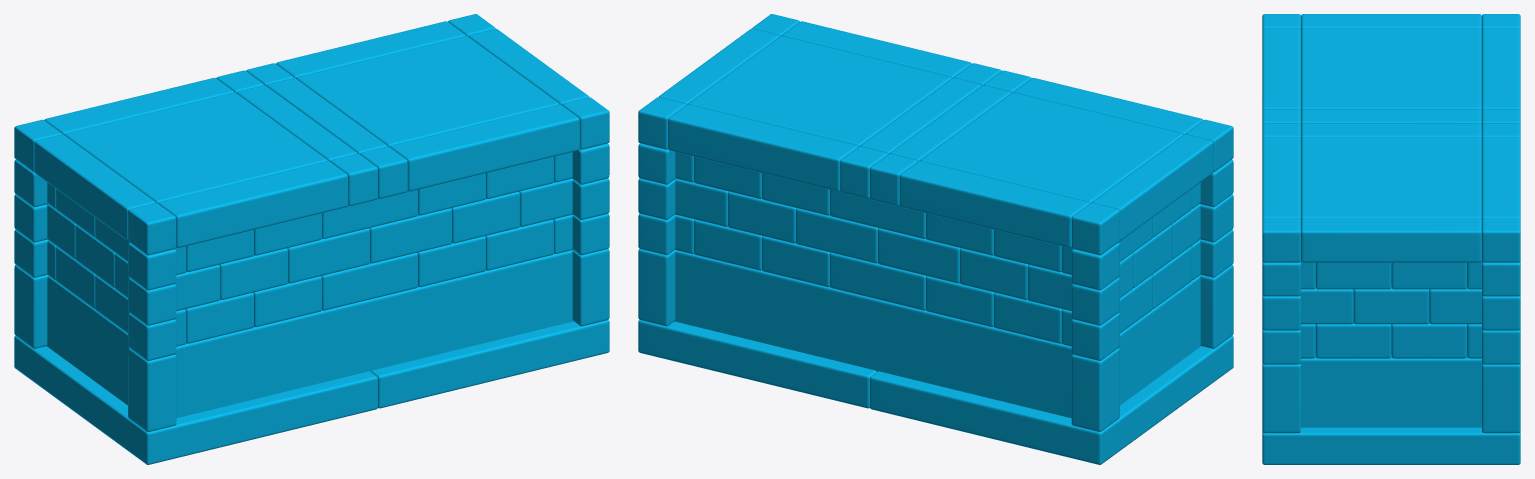
The model's file is SM_Brick_Body_06.fbx.
3 renders of one model, left to right at view 1: azimuth 30°, elevation 25°; view 2: azimuth 150°, elevation 25°; view 3: azimuth 270°, elevation 25°, orthographic. The views are drawn at different scales.
Parts seen in each view (by area): view 1: SM_Brick_Body_06; view 2: SM_Brick_Body_06; view 3: SM_Brick_Body_06.
Part boxes in pixels (box(x1,y1,x2,y2)): SM_Brick_Body_06: box(14, 14, 609, 464); SM_Brick_Body_06: box(638, 14, 1233, 464); SM_Brick_Body_06: box(1262, 14, 1520, 464).
Size of the model in its own units: 5 by 2.5 by 2.5.
